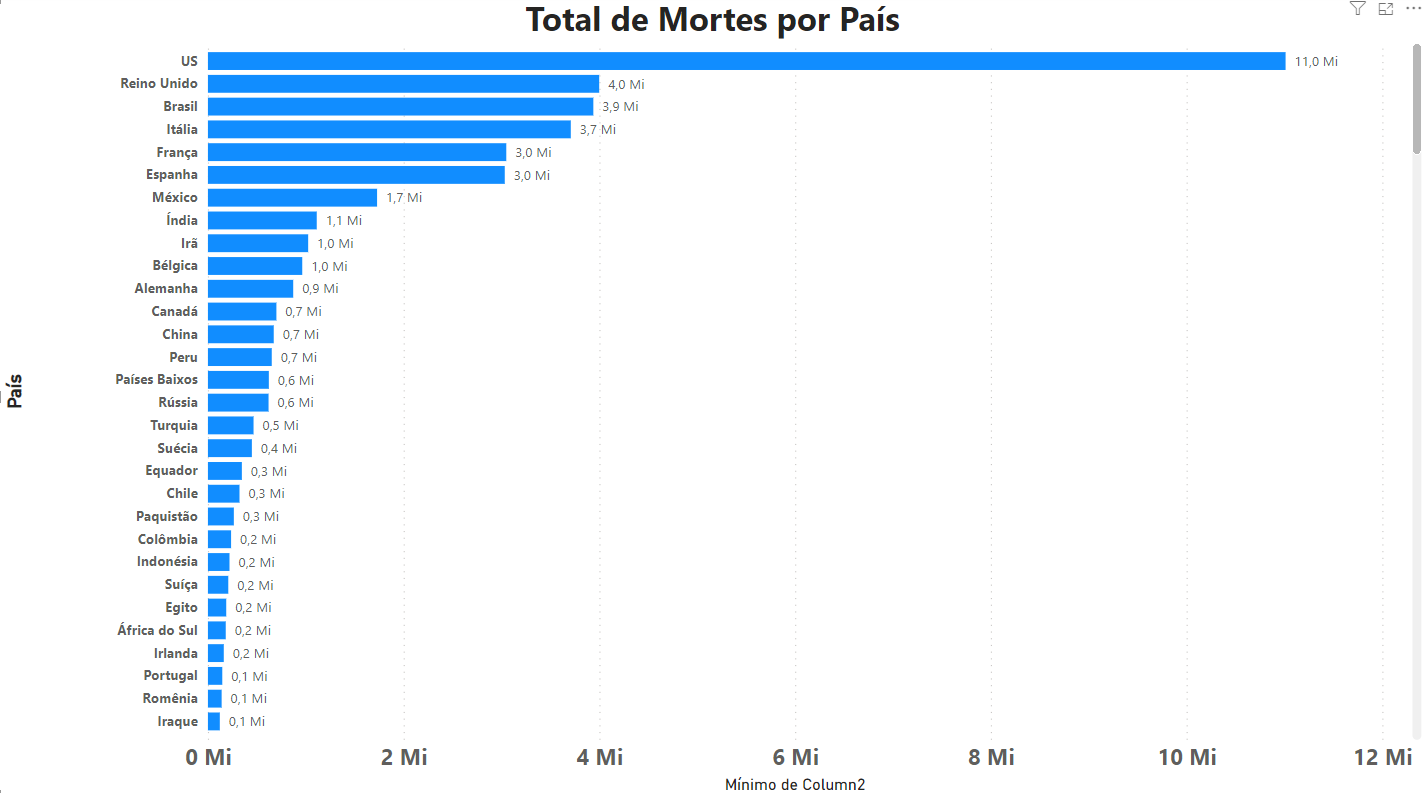

Layout of this report page (visuals, bound fields, positions):
{"tool":"powerbi","page":{"name":"Página 1","canvas":[1280,720],"ordinal":0},"visuals":[{"type":"barChart","title":"Total de Mortes por País","fields":{"Category":["paises e suas mortes.Column1"],"Y":["Divide(Max(paises e suas mortes.Column2), ScopedEval(Max(paises e suas mortes.Column2), []))"]},"box":[0,0,1279.7,720],"z":0}]}

Visuals, with their boxes in screenshot pixels (x1, y1, x2, y2), scaled from the page's 1280x720 canvas onto the 1422x793 screenshot:
"Total de Mortes por País" barChart: [0,0,1421,792]
